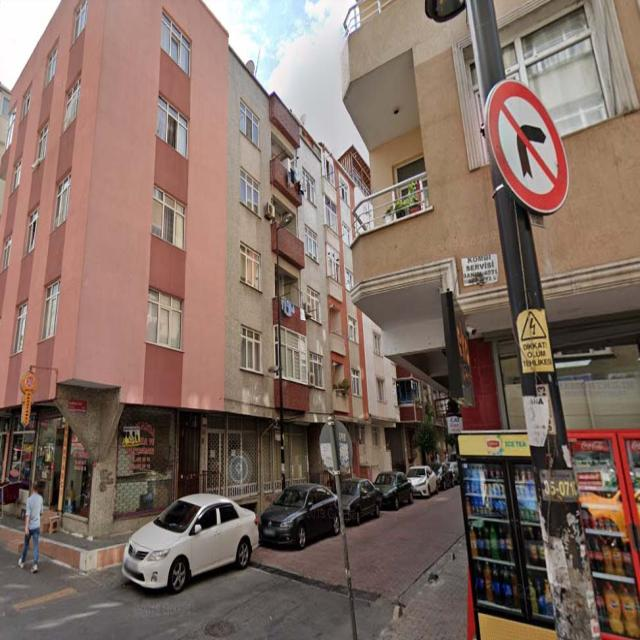sagadonulmez: (486, 78, 569, 213)
